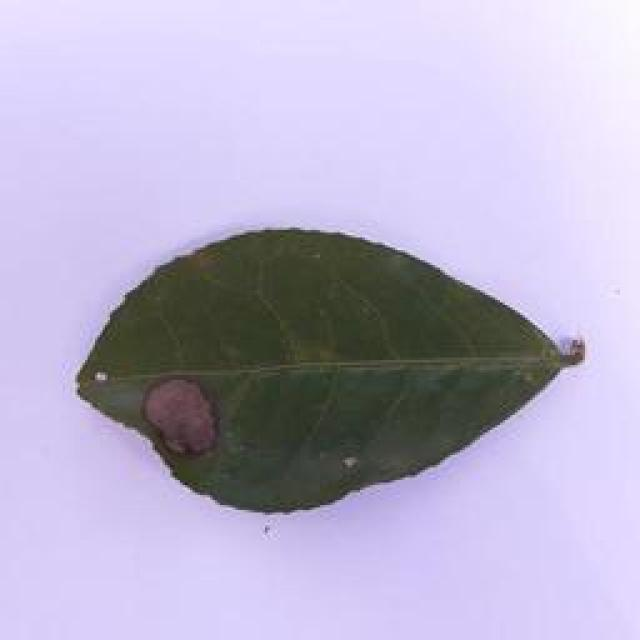Gray Blight: (62, 218, 593, 527)
